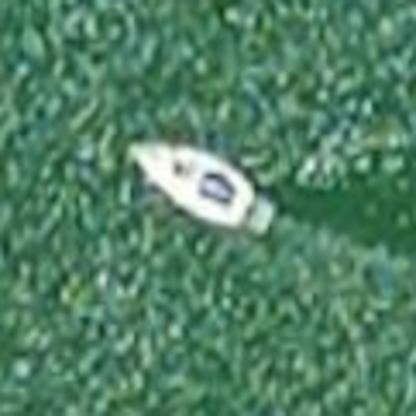ship: (122, 129, 283, 241)
